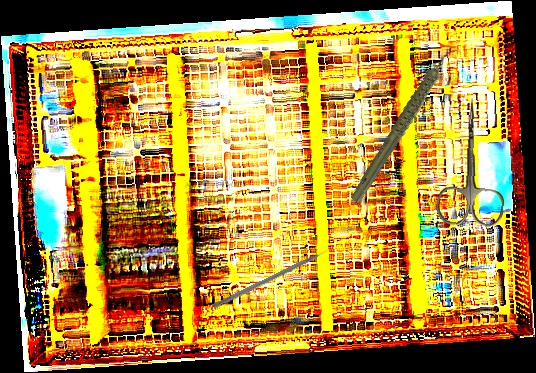Handpiece: (322, 44, 488, 207)
Hook Surgical: (212, 246, 335, 310)
Iris Scissors: (435, 96, 508, 228)
